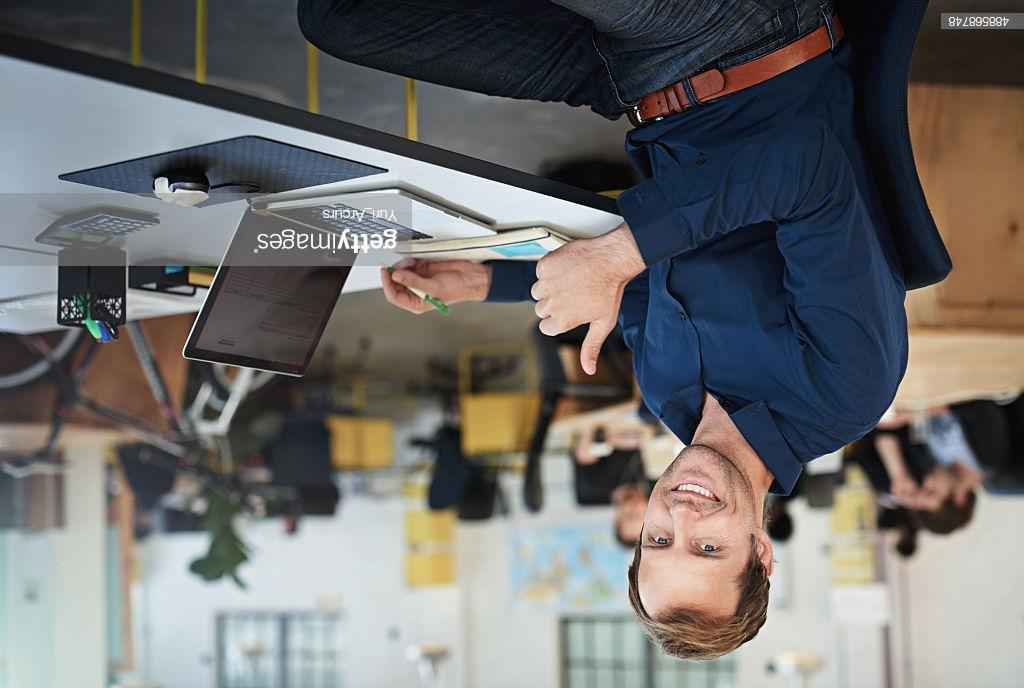thumbsdown: (529, 237, 602, 378)
